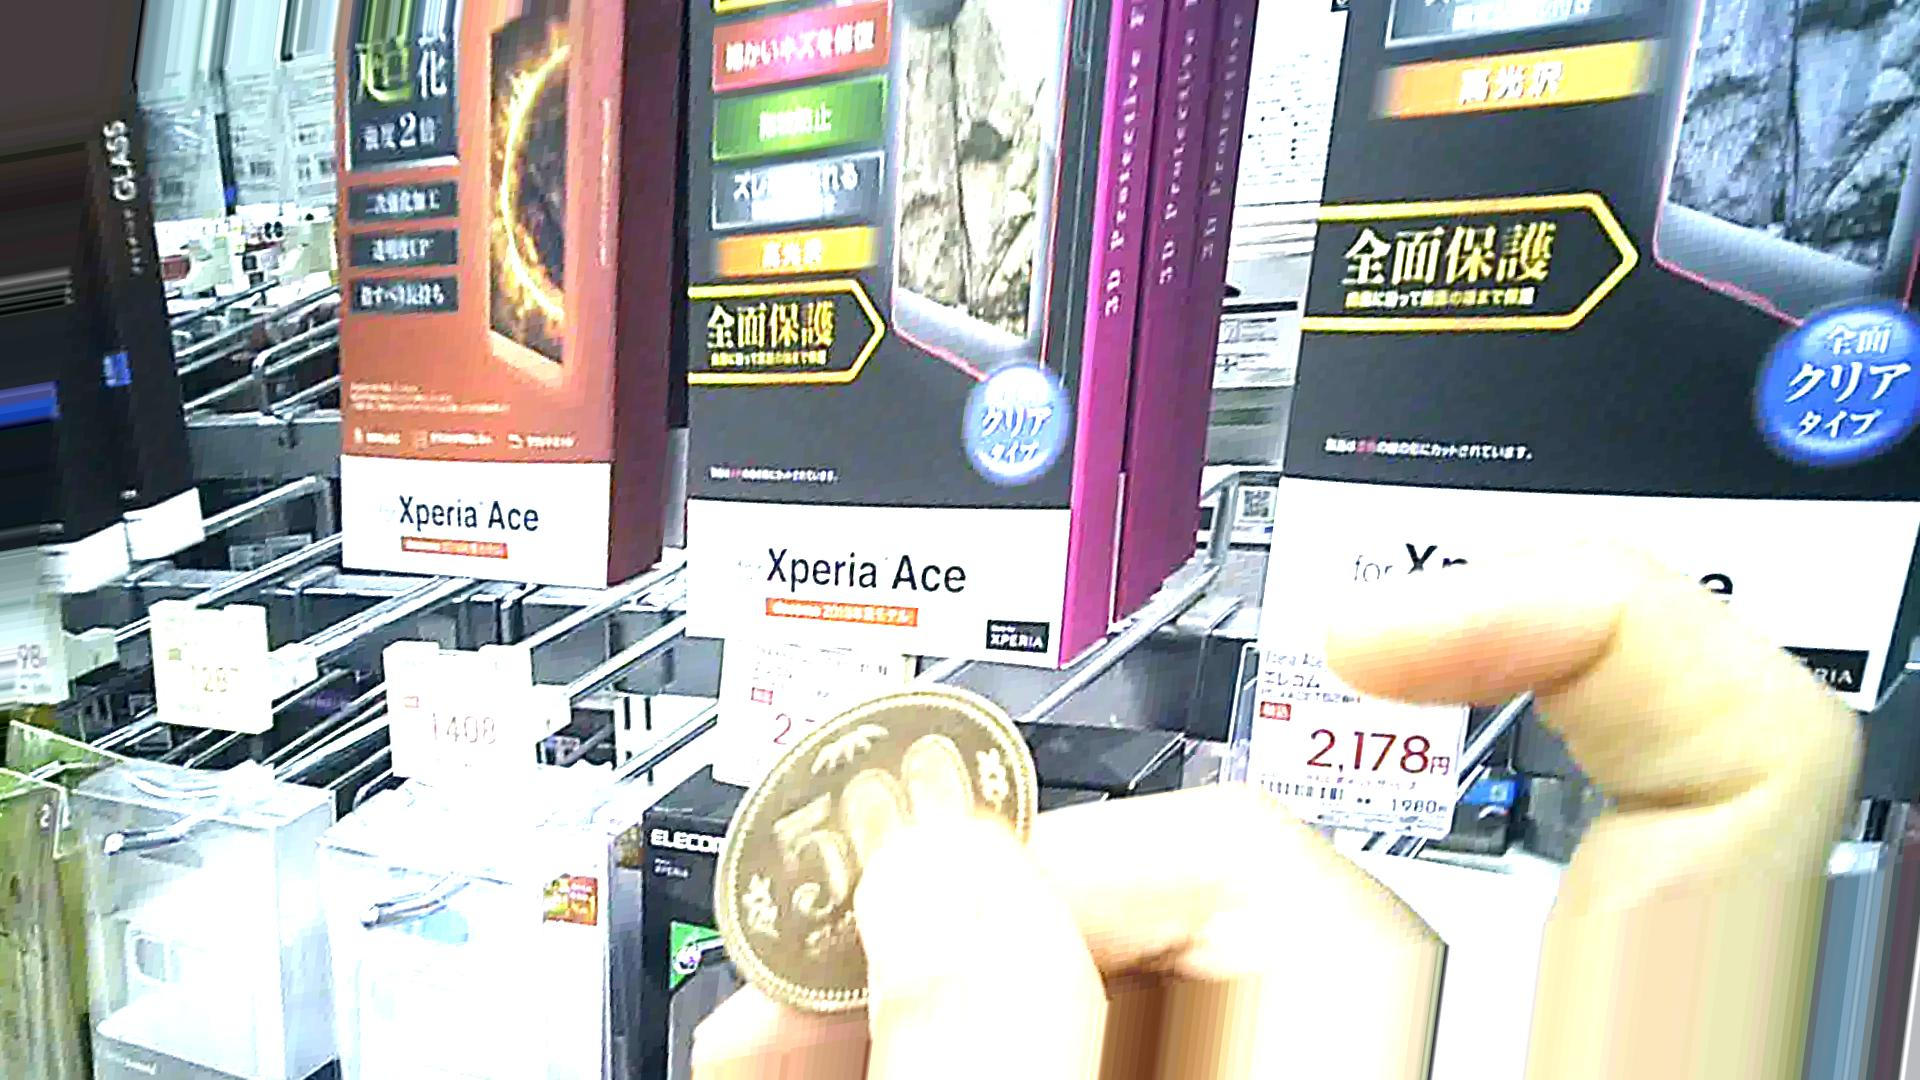500 Yen: (705, 680, 1048, 1006)
